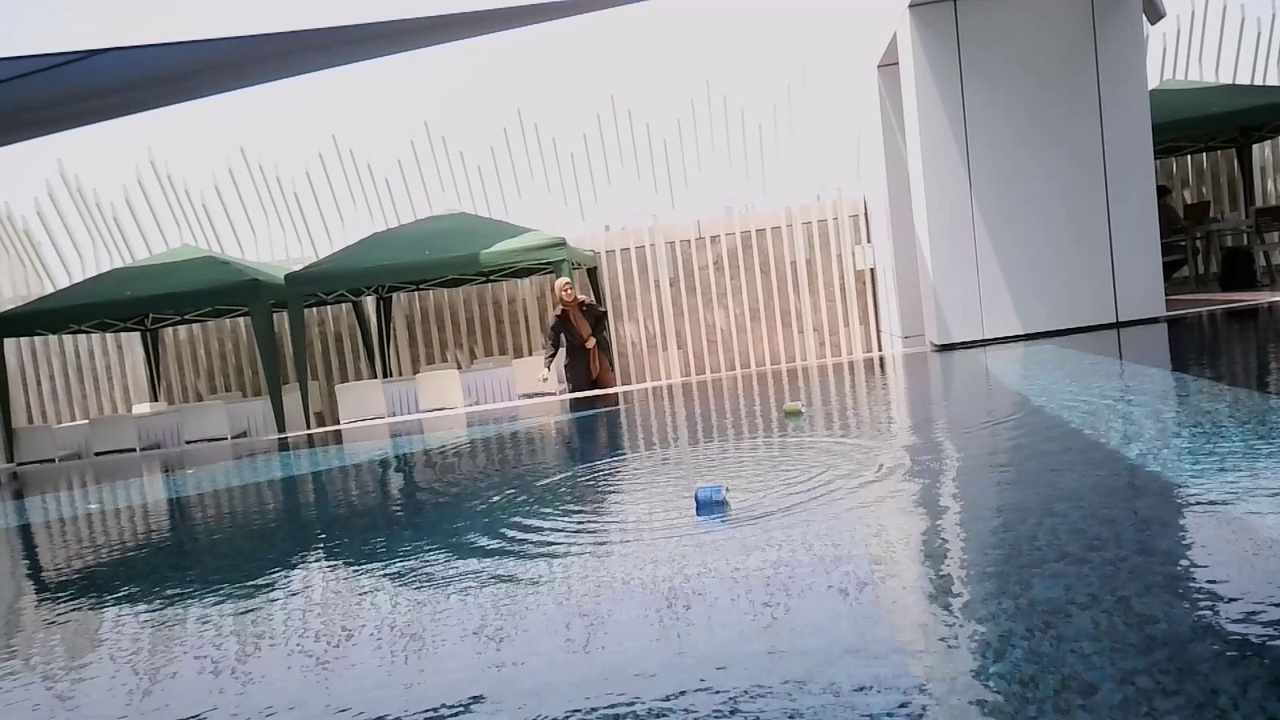debris: (691, 482, 732, 511), (779, 399, 809, 419)
